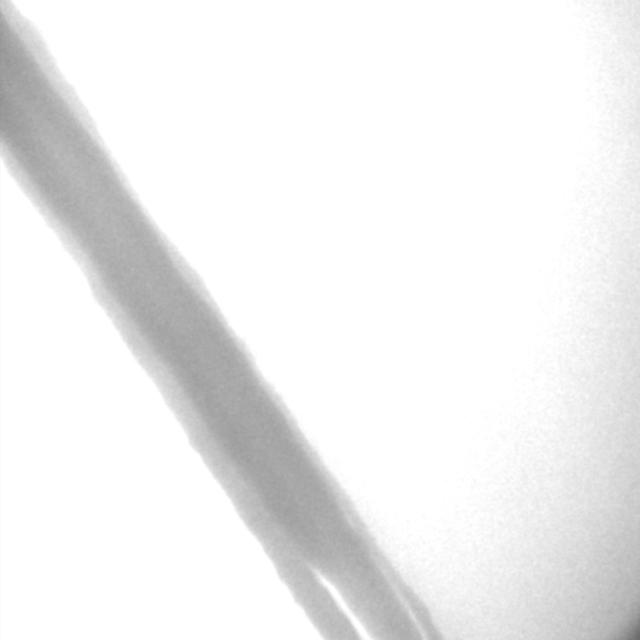unfused: (310, 553, 426, 635)
